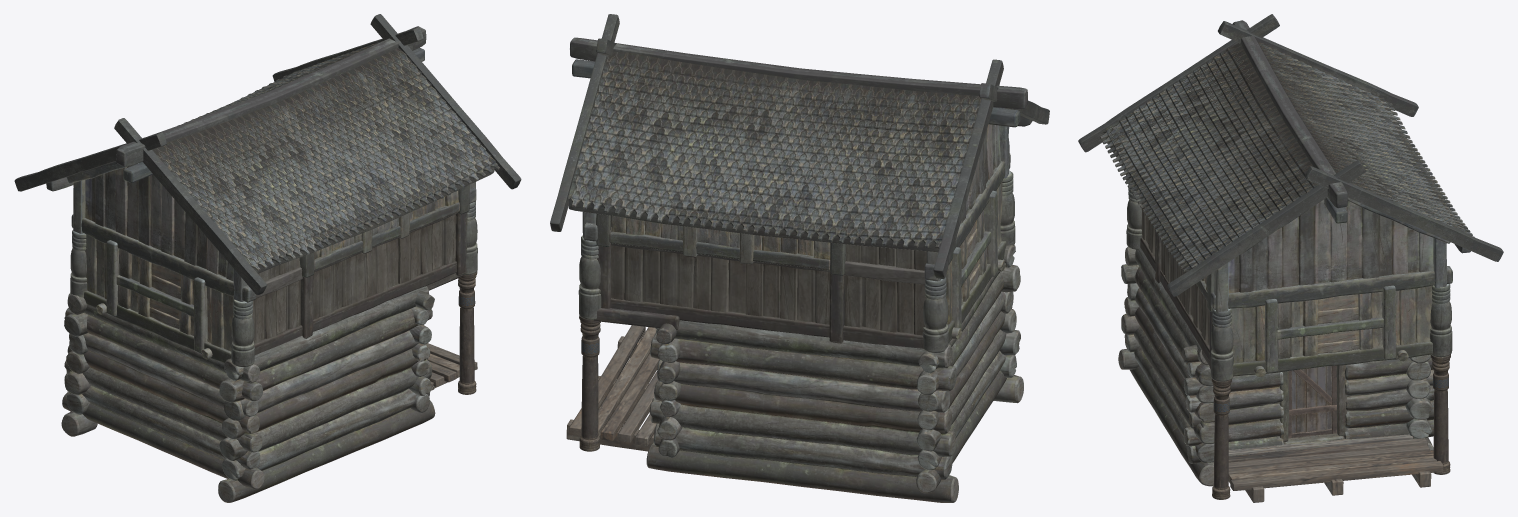
The model's file is cabain.gltf.
3 views of the same model, side by side, from view 1: azimuth 30°, elevation 25°; view 2: azimuth 150°, elevation 25°; view 3: azimuth 270°, elevation 25° (orthographic). The views are drawn at different scales.
Parts seen in each view (by area): view 1: HouseBig02; view 2: HouseBig02; view 3: HouseBig02.
Part boxes in pixels (box(x1,y1,x2,y2)): HouseBig02: box(14, 14, 521, 502); HouseBig02: box(550, 14, 1049, 502); HouseBig02: box(1078, 14, 1503, 502).
Size of the model in its own units: 10.99 by 9.47 by 10.74.
